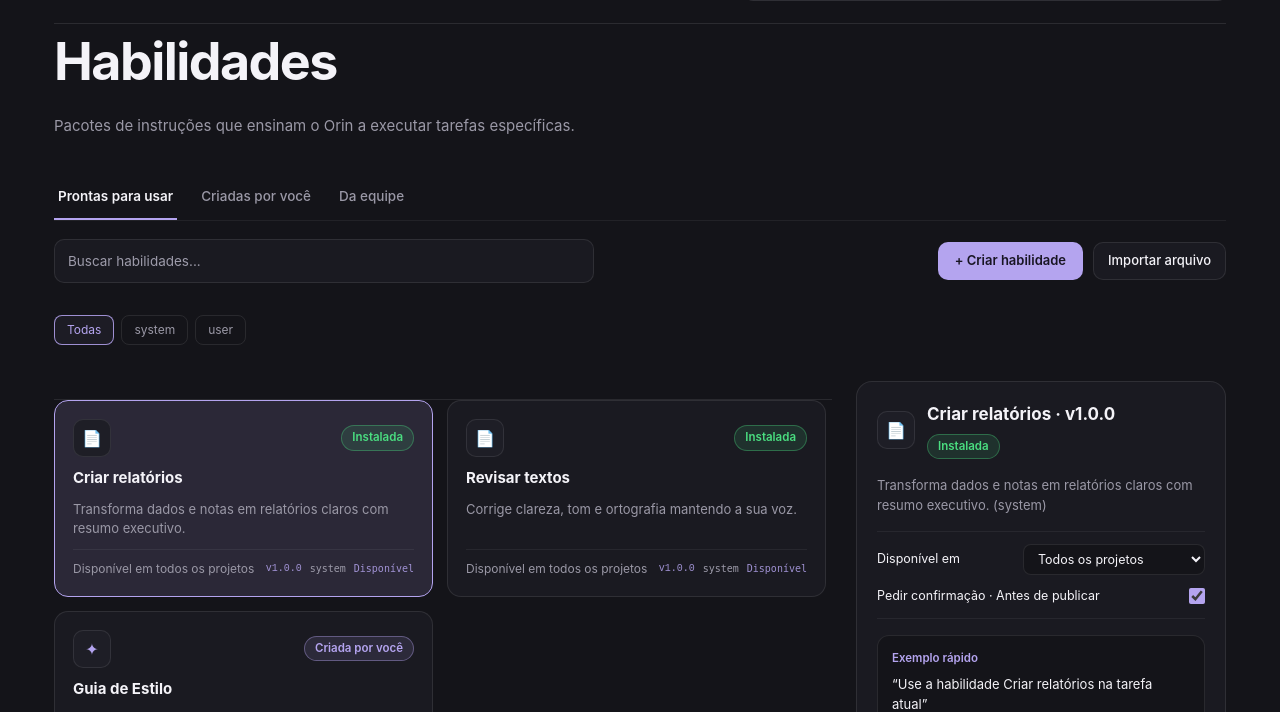
Test: SkillsPage Phase 6 (ref-12.png) › renders the right-hand inspector with real skill details, neutral availability options, and closed instructions accordion by default
This screenshot has width=1280, height=712.
Expected: the link "Criar relatórios" is shown, x1=73 y1=468 x2=182 y2=487
Expected: the heading "Criar relatórios · v1.0.0" is shown, x1=927 y1=402 x2=1115 y2=428
Step 1. Select "Apenas no projeto atual" in the dropdown labelled "Disponível em" → (1114, 560), box x1=1023 y1=544 x2=1205 y2=575
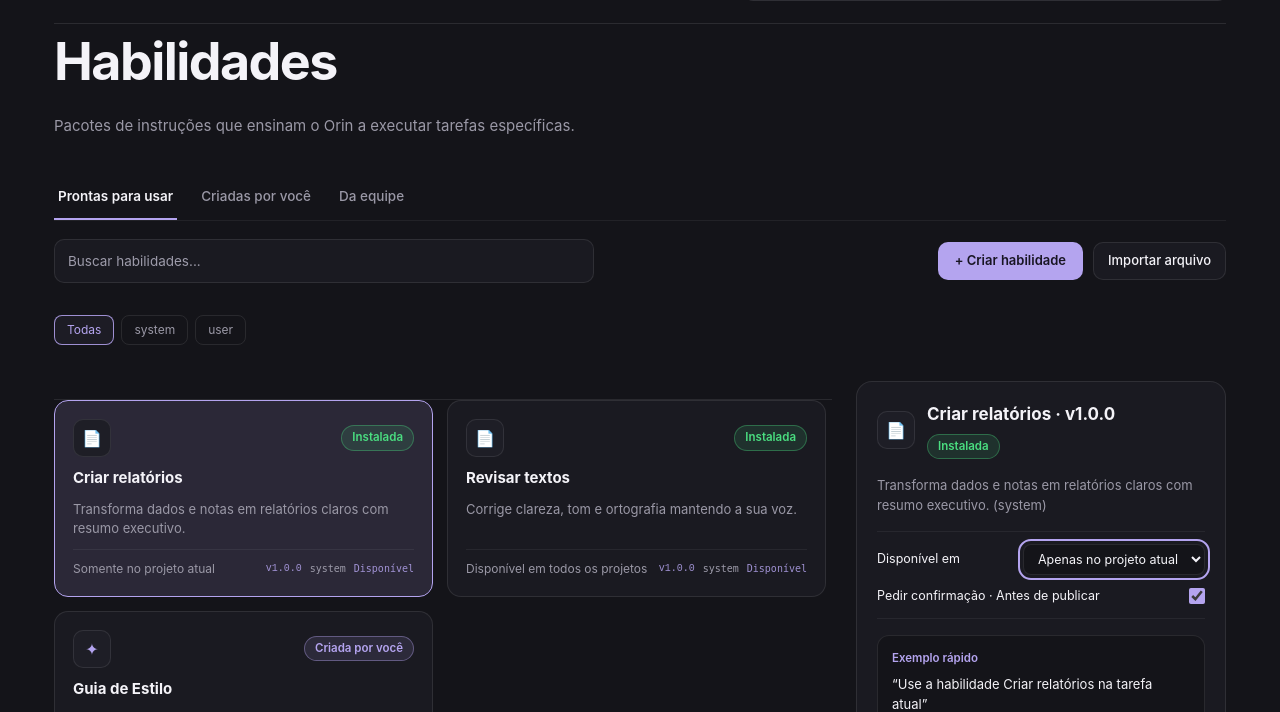
Step 2. Click the checkbox labelled "Pedir confirmação · Antes de publicar" → (1197, 596), box x1=1189 y1=588 x2=1205 y2=604
(page scrolled)
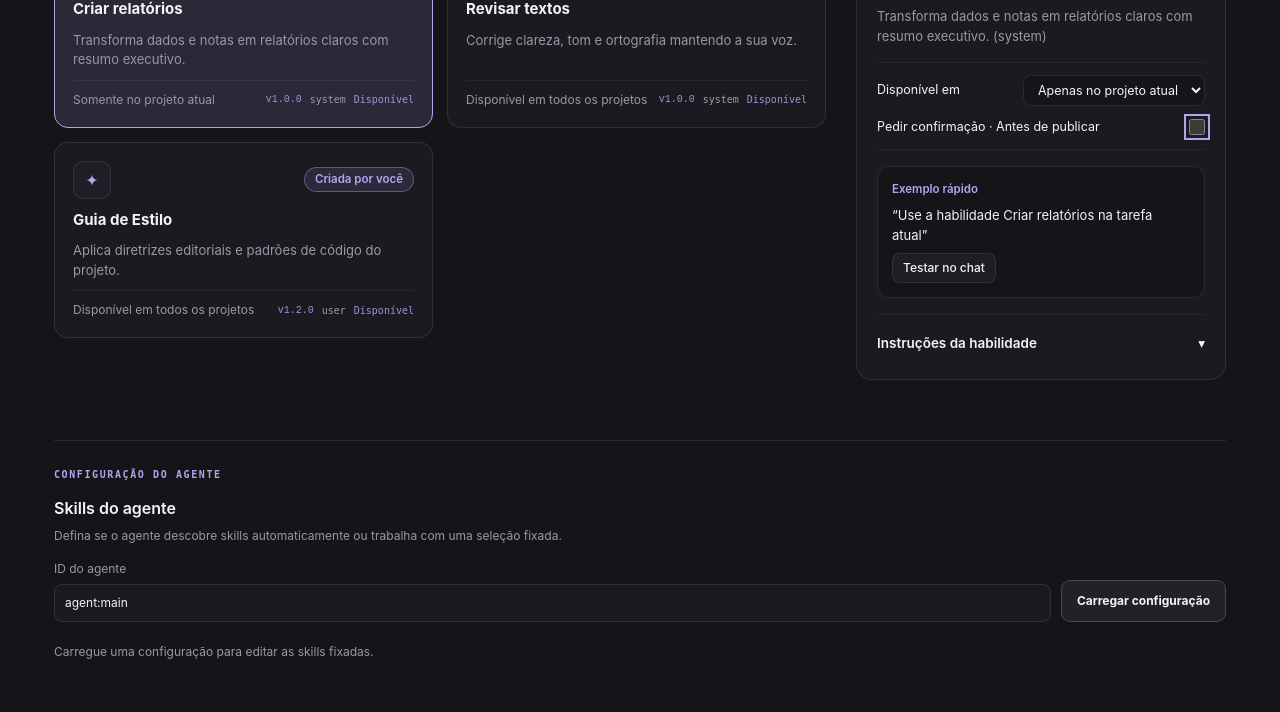
Expected: the element with test id "skill-quick-example" shows "Use a habilidade Criar relatórios na tarefa atual", x1=892 y1=207 x2=1152 y2=243
Expected: the checkbox labelled "Pedir confirmação · Antes de publicar" is not checked, x1=1189 y1=120 x2=1205 y2=136
Step 3. Click the button "Instruções da habilidade ▾" → (957, 343), box x1=877 y1=327 x2=1205 y2=359
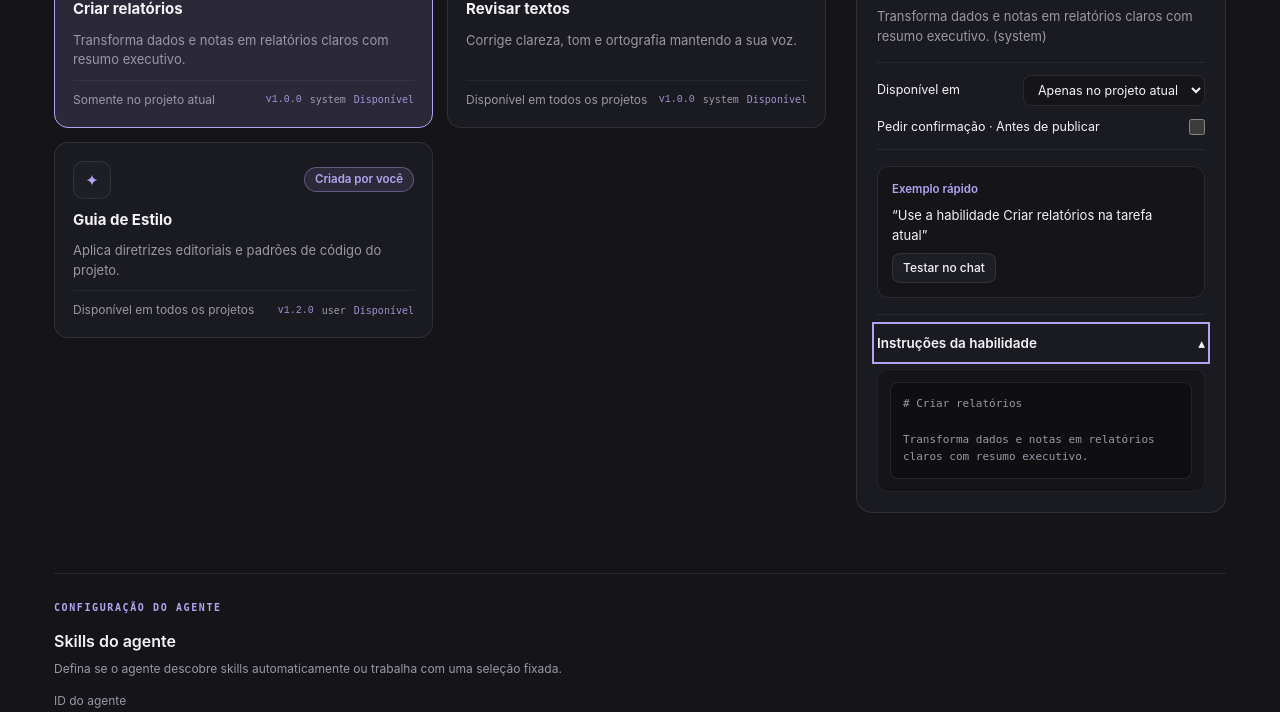
Expected: the text "Transforma dados e notas em relatórios claros" is shown, x1=903 y1=397 x2=1161 y2=463
